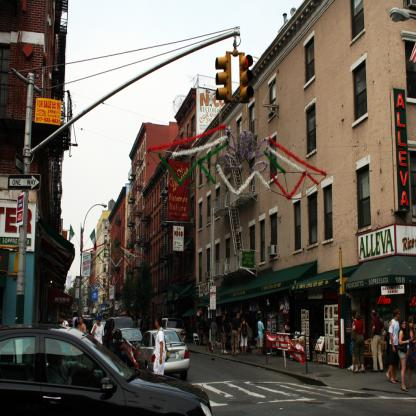Car: (1, 324, 212, 416), (141, 332, 191, 379), (107, 317, 139, 345), (115, 331, 141, 357)
